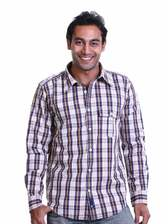clothoes: (17, 61, 157, 217)
